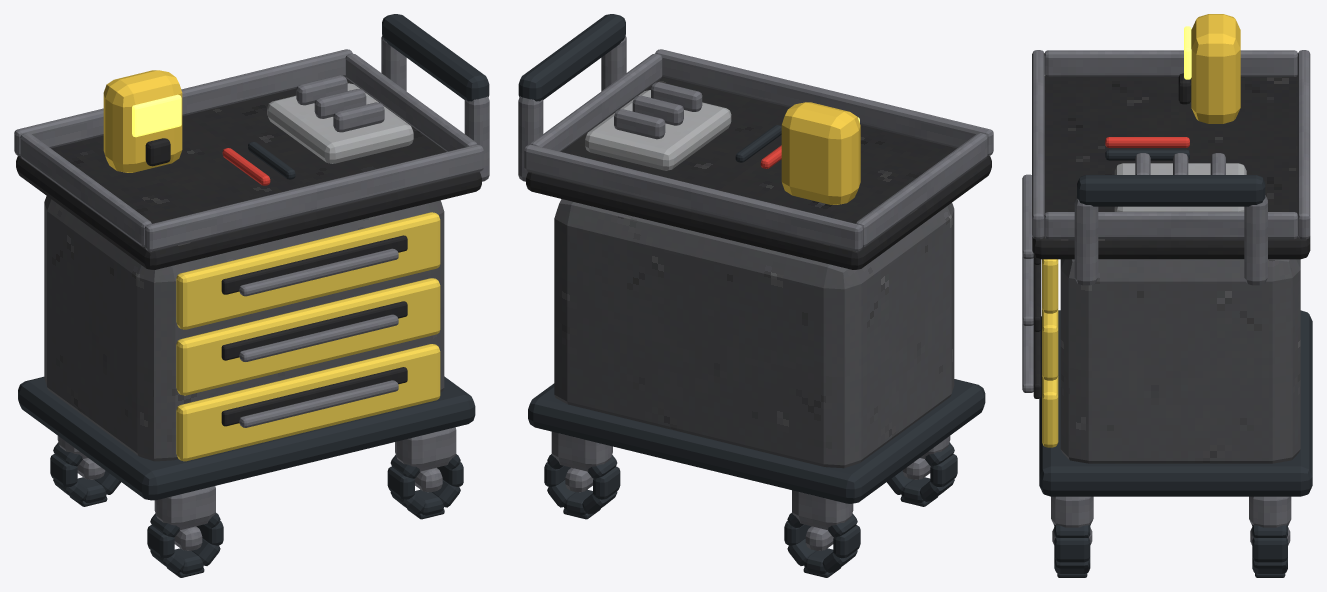
File: decor_eng_tool_trolley.glb
3 views of the same model, side by side, from view 1: azimuth 30°, elevation 25°; view 2: azimuth 150°, elevation 25°; view 3: azimuth 270°, elevation 25° (orthographic).
Parts seen in each view (by area): view 1: DEC_EngToolTrolley__Cabinet, DEC_EngToolTrolley__Work_Tray, DEC_EngToolTrolley__Bottom_Bumper, DEC_EngToolTrolley__Drawer_Face_2, DEC_EngToolTrolley__Drawer_Face_0, DEC_EngToolTrolley__Drawer_Face_1, DEC_EngToolTrolley__Tray_Lip_-0.282, DEC_EngToolTrolley__Tray_Lip_0.282, DEC_EngToolTrolley__Multimeter_Case, DEC_EngToolTrolley__Parts_Tray, DEC_EngToolTrolley__Tray_End_-0.426, DEC_EngToolTrolley__Push_Handle_Grip (+21 smaller); view 2: DEC_EngToolTrolley__Cabinet, DEC_EngToolTrolley__Work_Tray, DEC_EngToolTrolley__Bottom_Bumper, DEC_EngToolTrolley__Tray_Lip_0.282, DEC_EngToolTrolley__Tray_Lip_-0.282, DEC_EngToolTrolley__Multimeter_Case, DEC_EngToolTrolley__Parts_Tray, DEC_EngToolTrolley__Tray_End_-0.426, DEC_EngToolTrolley__Push_Handle_Grip, DEC_EngToolTrolley__Tray_End_0.386, DEC_EngToolTrolley__Caster_0.3_0.21_Fork, DEC_EngToolTrolley__Caster_-0.3_0.21_Fork (+9 smaller); view 3: DEC_EngToolTrolley__Cabinet, DEC_EngToolTrolley__Work_Tray, DEC_EngToolTrolley__Bottom_Bumper, DEC_EngToolTrolley__Push_Handle_Grip, DEC_EngToolTrolley__Tray_End_0.386, DEC_EngToolTrolley__Tray_End_-0.426, DEC_EngToolTrolley__Multimeter_Case, DEC_EngToolTrolley__Tray_Lip_0.282, DEC_EngToolTrolley__Tray_Lip_-0.282, DEC_EngToolTrolley__Push_Handle_Post_-0.18, DEC_EngToolTrolley__Push_Handle_Post_0.18, DEC_EngToolTrolley__Parts_Tray (+19 smaller).
Boxes of the visible parts, x1,y1,x2,y2 form: DEC_EngToolTrolley__Cabinet: (44,196,444,461); DEC_EngToolTrolley__Work_Tray: (16,76,481,269); DEC_EngToolTrolley__Bottom_Bumper: (18,376,475,500); DEC_EngToolTrolley__Drawer_Face_2: (176,212,440,329); DEC_EngToolTrolley__Drawer_Face_0: (176,344,440,461); DEC_EngToolTrolley__Drawer_Face_1: (176,278,440,395); DEC_EngToolTrolley__Tray_Lip_-0.282: (144,144,483,251); DEC_EngToolTrolley__Tray_Lip_0.282: (14,49,352,155); DEC_EngToolTrolley__Multimeter_Case: (103,70,182,172); DEC_EngToolTrolley__Parts_Tray: (267,83,413,163); DEC_EngToolTrolley__Tray_End_-0.426: (20,133,151,246); DEC_EngToolTrolley__Push_Handle_Grip: (382,14,489,101); DEC_EngToolTrolley__Cabinet: (554,199,954,468); DEC_EngToolTrolley__Work_Tray: (526,76,991,269); DEC_EngToolTrolley__Bottom_Bumper: (528,379,985,503); DEC_EngToolTrolley__Tray_Lip_0.282: (524,144,863,251); DEC_EngToolTrolley__Tray_Lip_-0.282: (655,49,993,155); DEC_EngToolTrolley__Multimeter_Case: (781,102,860,204); DEC_EngToolTrolley__Parts_Tray: (585,90,731,170); DEC_EngToolTrolley__Tray_End_-0.426: (856,133,987,246); DEC_EngToolTrolley__Push_Handle_Grip: (518,14,625,101); DEC_EngToolTrolley__Tray_End_0.386: (531,53,662,151); DEC_EngToolTrolley__Caster_0.3_0.21_Fork: (551,431,612,471); DEC_EngToolTrolley__Caster_-0.3_0.21_Fork: (792,490,853,529); DEC_EngToolTrolley__Cabinet: (1060,259,1300,463); DEC_EngToolTrolley__Work_Tray: (1032,76,1310,259); DEC_EngToolTrolley__Bottom_Bumper: (1039,310,1312,496); DEC_EngToolTrolley__Push_Handle_Grip: (1077,175,1265,206); DEC_EngToolTrolley__Tray_End_0.386: (1044,212,1297,239); DEC_EngToolTrolley__Tray_End_-0.426: (1044,50,1297,76); DEC_EngToolTrolley__Multimeter_Case: (1191,14,1240,123); DEC_EngToolTrolley__Tray_Lip_0.282: (1297,50,1310,239); DEC_EngToolTrolley__Tray_Lip_-0.282: (1032,50,1044,239); DEC_EngToolTrolley__Push_Handle_Post_-0.18: (1074,195,1098,285); DEC_EngToolTrolley__Push_Handle_Post_0.18: (1244,195,1267,285); DEC_EngToolTrolley__Parts_Tray: (1114,163,1246,211).
Size of the model in its own units: 0.9135 by 1.04 by 0.616.
Materials: 9 (4 with a texture image).
